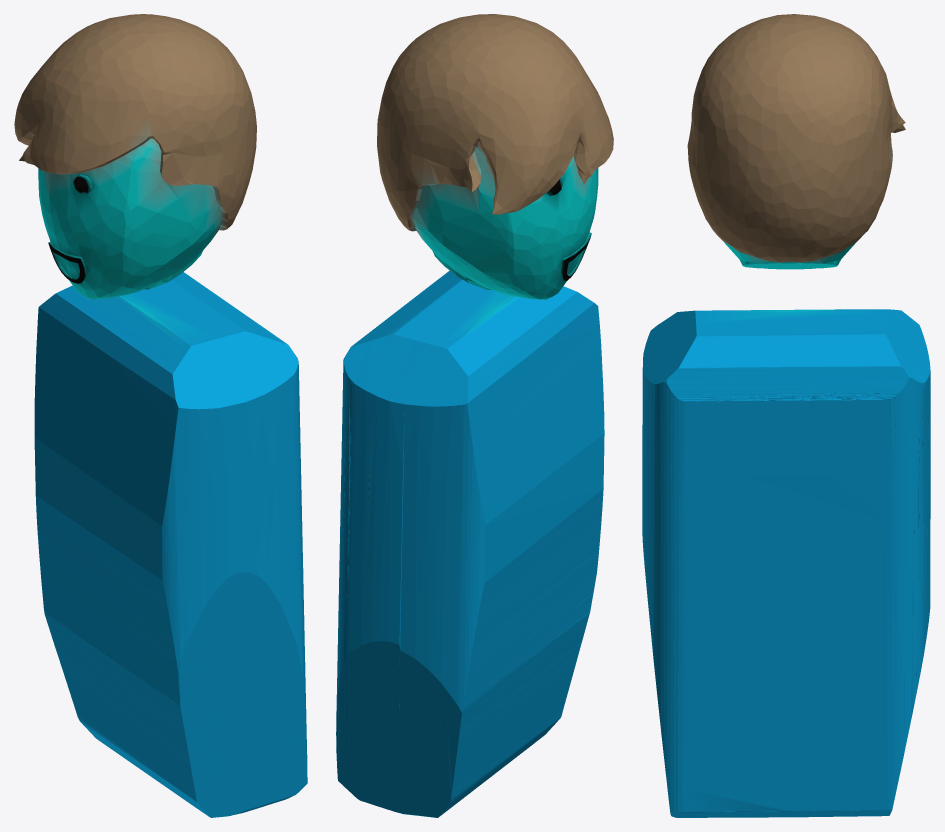
Rendered from hoodie-character.glb.
3 views of the same model, side by side, from view 1: azimuth 30°, elevation 25°; view 2: azimuth 150°, elevation 25°; view 3: azimuth 270°, elevation 25° (orthographic).
Visible parts, largest first — view 1: geometry_0; view 2: geometry_0; view 3: geometry_0.
Boxes of the visible parts, x1=… form: geometry_0: x1=14, y1=14, x2=307, y2=817; geometry_0: x1=336, y1=14, x2=613, y2=817; geometry_0: x1=642, y1=14, x2=930, y2=817.
Size of the model in its own units: 14.76 by 49.88 by 17.31.
